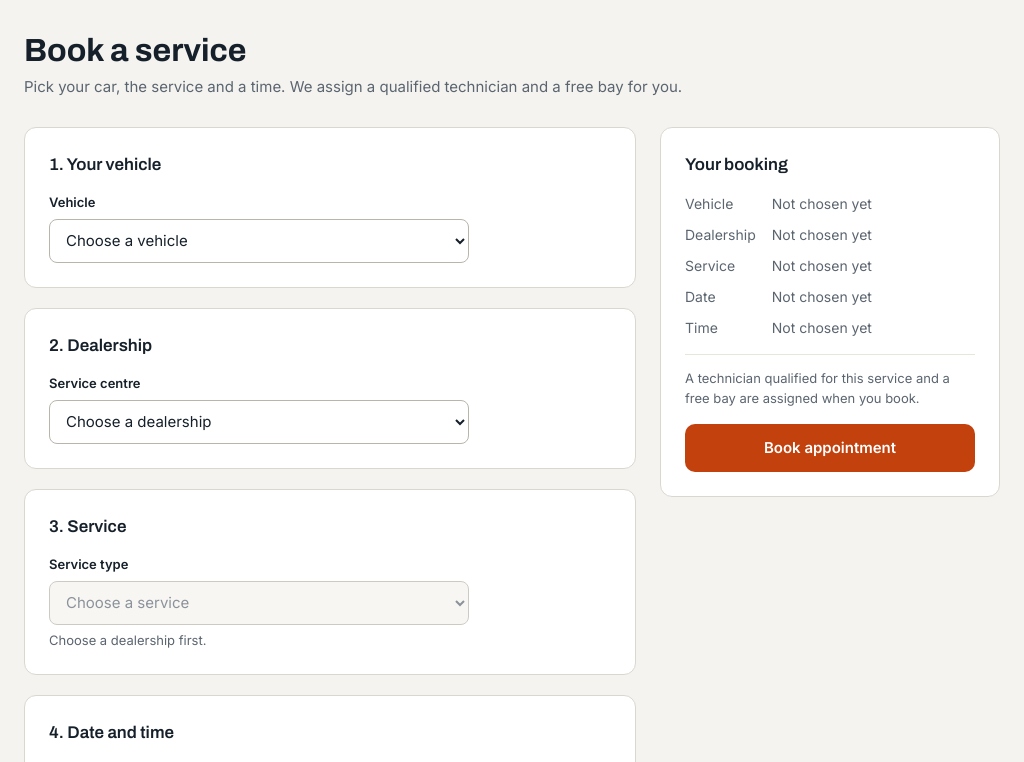
Test: BookingPage › shows a message when the day has no free times, with the taken times under it
The image size is (1024, 762).
Expected: the dropdown labelled "Vehicle" is shown, [49,219,469,263]
Step 1. Select "District 1 Service Centre · open 08:00–17:00" in the dropdown labelled "Service centre" → {"x": 259, "y": 422}, box [49,400,469,444]
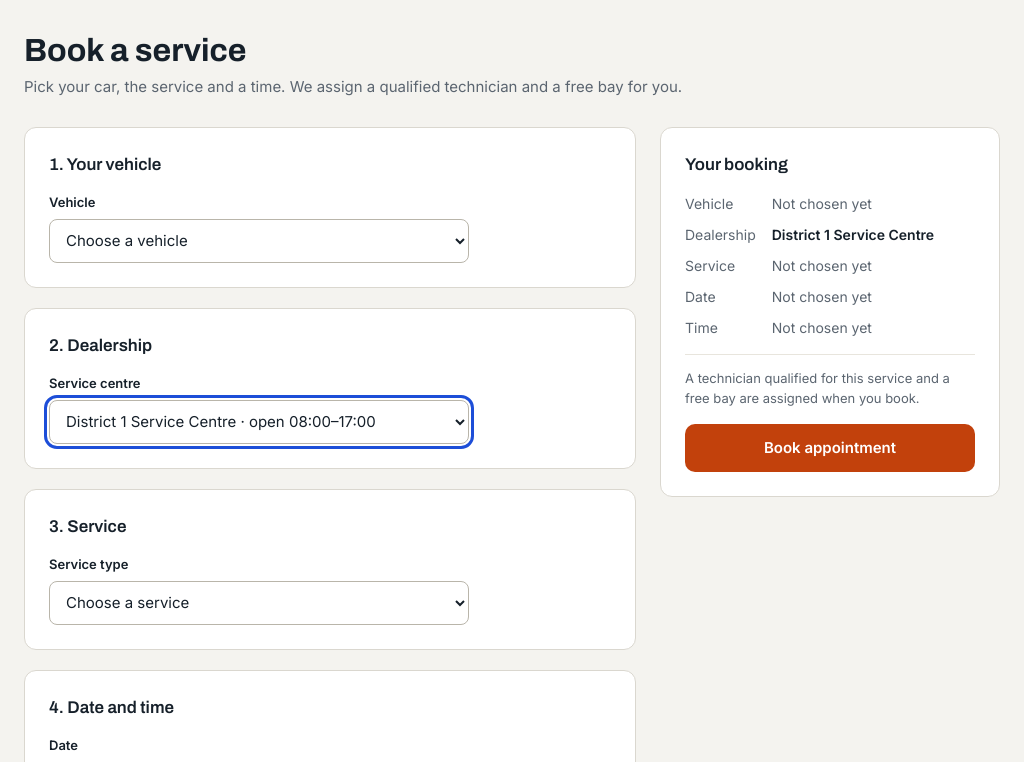
Step 2. Select "Oil change · 60 min" in the dropdown labelled "Service type" → {"x": 259, "y": 603}, box [49,581,469,625]
(page scrolled)
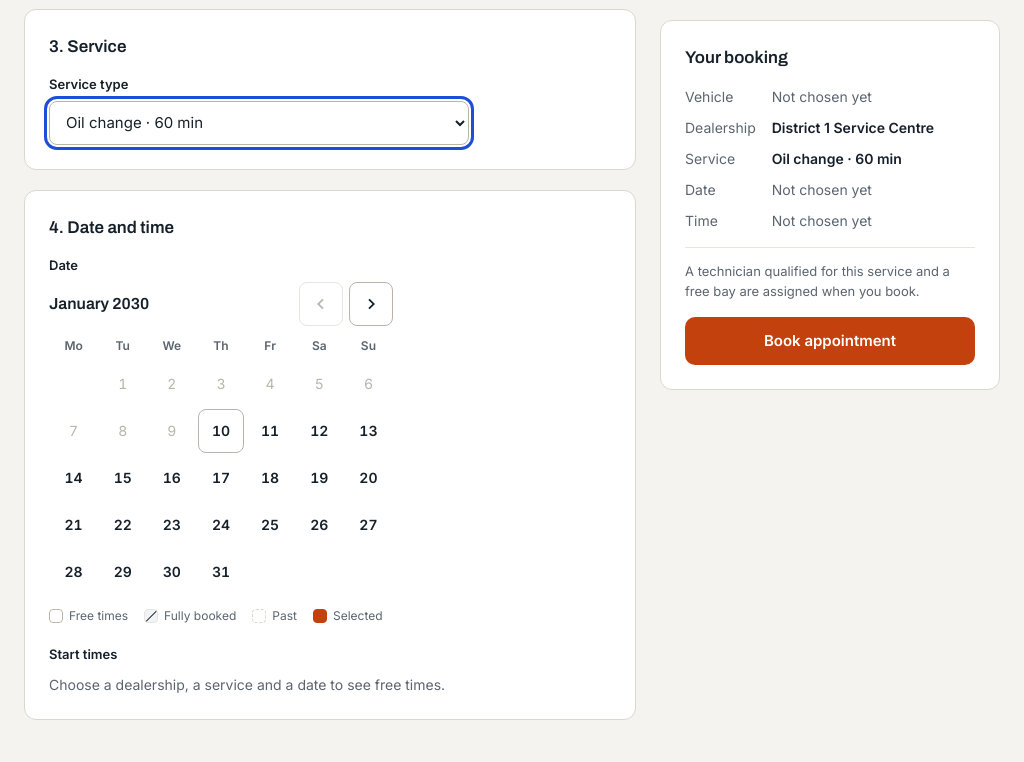
Expected: the button named "Fri 18 Jan 2030" is shown, [247,456,293,500]
Step 3. Click the button "15" → {"x": 123, "y": 478}, box [100,456,146,500]
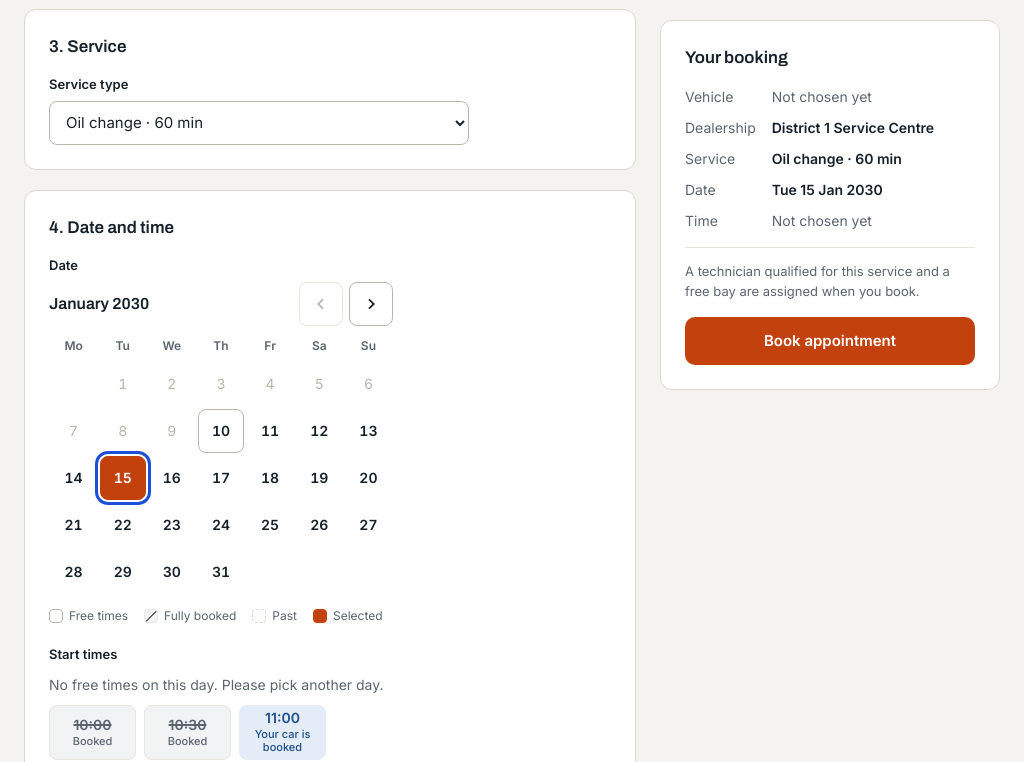
Result: the text "No free times on this day. Please pick another day." is shown at [49,676,384,693]
